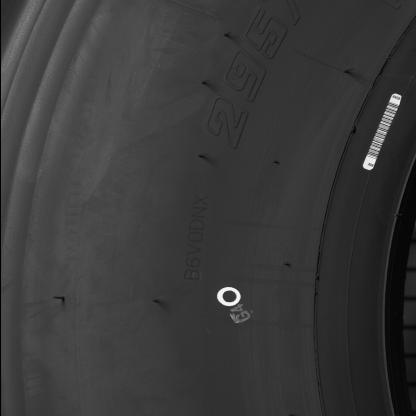ocr: (180, 194, 212, 282)
